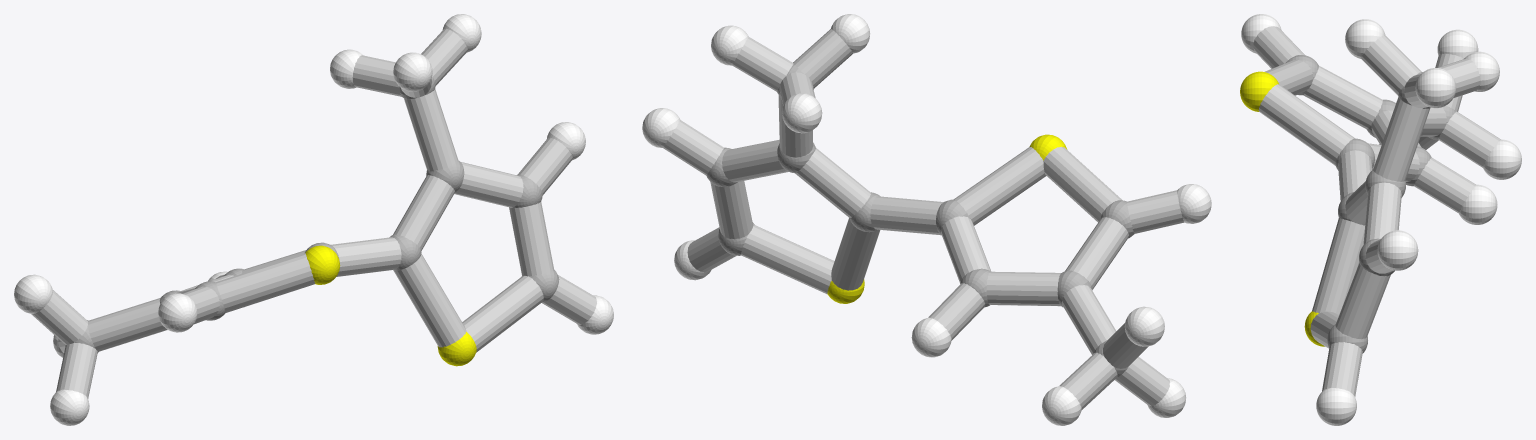
File: Methylthiophene_Phi_10_Theta_280_Methylthiophene.glb
3 renders of one model, left to right at view 1: azimuth 30°, elevation 25°; view 2: azimuth 150°, elevation 25°; view 3: azimuth 270°, elevation 25°, orthographic. The views are drawn at different scales.
Parts seen in each view (by area): view 1: grp7965, grp3621, grp1, grp7241; view 2: grp7965, grp3621, grp1, grp7241; view 3: grp7965, grp3621, grp1, grp7241.
Part boxes in pixels (<box>): grp7965: <box>31,29,596,398</box>; grp3621: <box>14,14,613,425</box>; grp1: <box>64,77,559,352</box>; grp7241: <box>305,245,476,366</box>; grp7965: <box>663,29,1184,410</box>; grp3621: <box>642,14,1211,425</box>; grp1: <box>706,64,1134,377</box>; grp7241: <box>827,134,1067,303</box>; grp7965: <box>1253,26,1500,396</box>; grp3621: <box>1241,14,1521,425</box>; grp1: <box>1286,55,1456,353</box>; grp7241: <box>1240,71,1324,346</box>.
Bounding box in the file's own units: 9.42 × 5.18 × 4.15.
